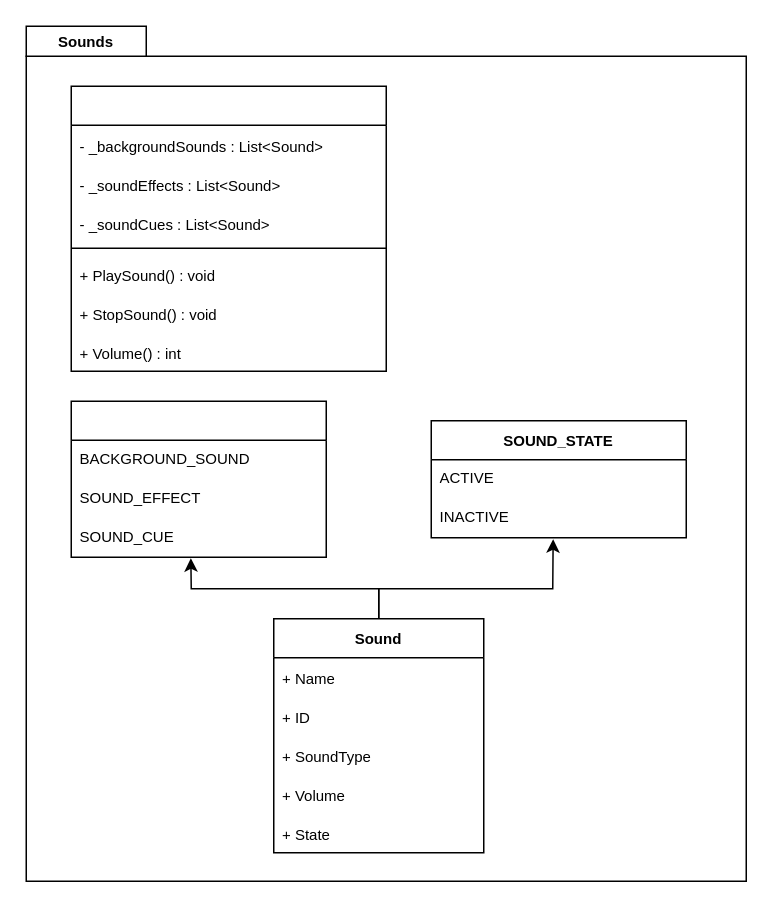
Some shapes in this 773 by 908 pixel diagram are drawn without their labels. The box of each missing label's shape, as (x1, y1, x2, y2) in pixels:
SOUND_TYPE: (70, 400, 326, 557)
SoundManager: (70, 85, 386, 371)
